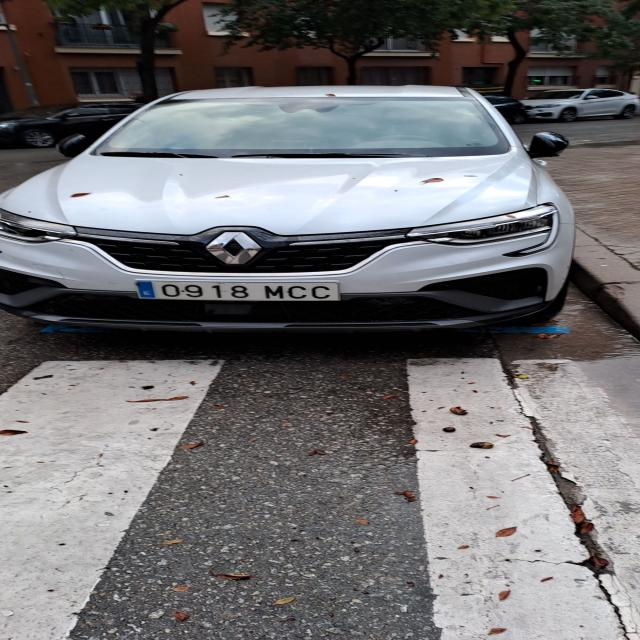license_plate-34Td: (136, 280, 340, 301)
